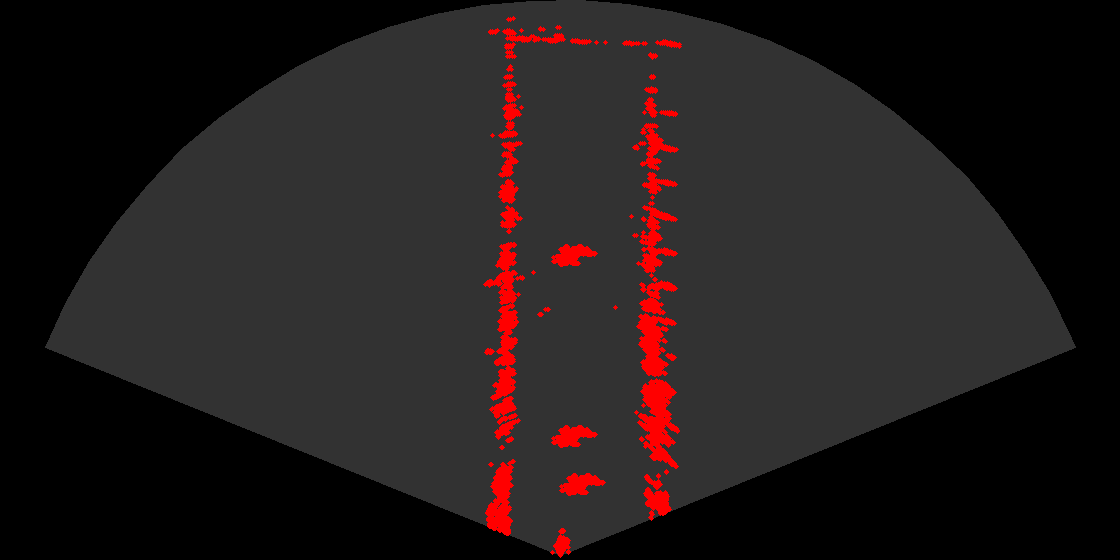AUV: (545, 423, 601, 455), (545, 242, 601, 274), (553, 471, 609, 503)
